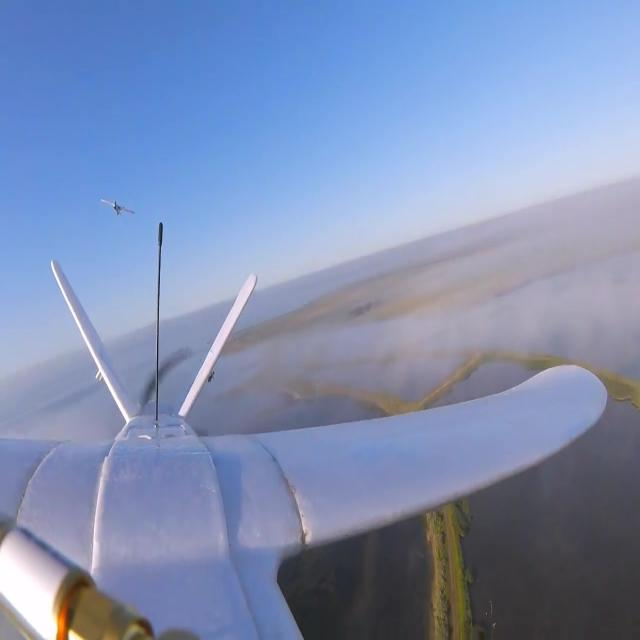iha: (36, 198, 71, 219)
